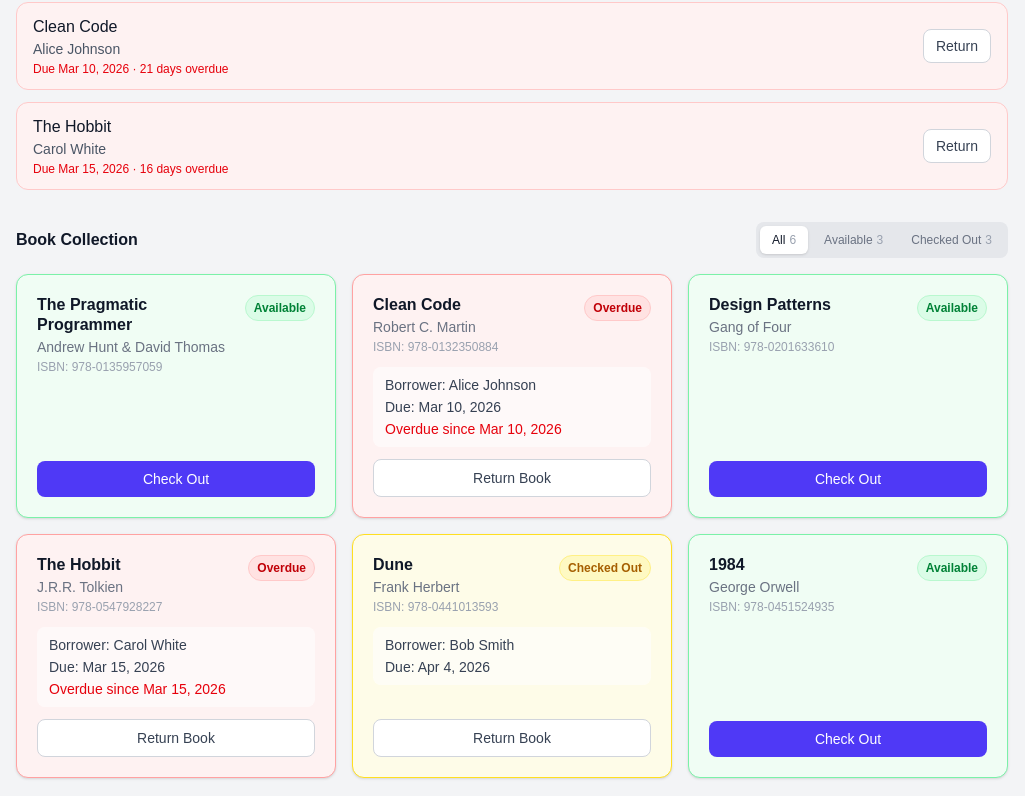
Test case: HomeView › return flow › marks a book as available after returning from BookCard
This screenshot has width=1025, height=796.
(page scrolled)
// Dune (b5) is currently checked out
Click the button "Return Book" below "Apr 4, 2026".
click(512, 738)  # box x1=373 y1=719 x2=651 y2=757
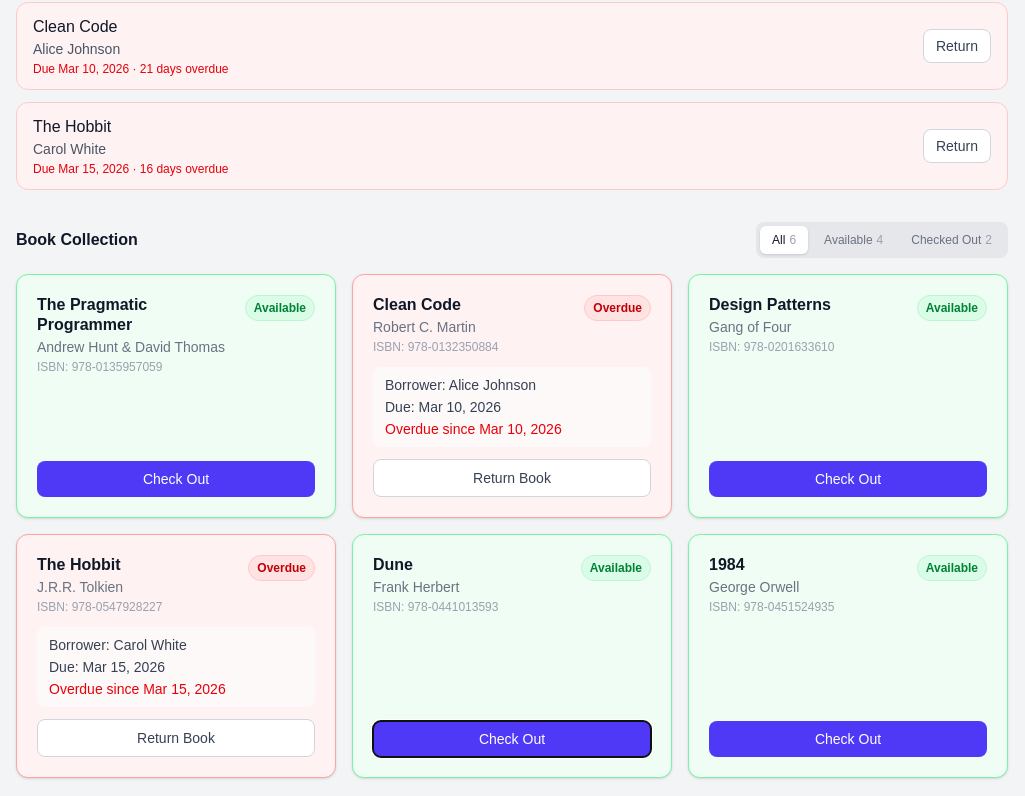
Expected: the button "Check Out" below "978-0441013593" is shown, x1=373 y1=721 x2=651 y2=757
